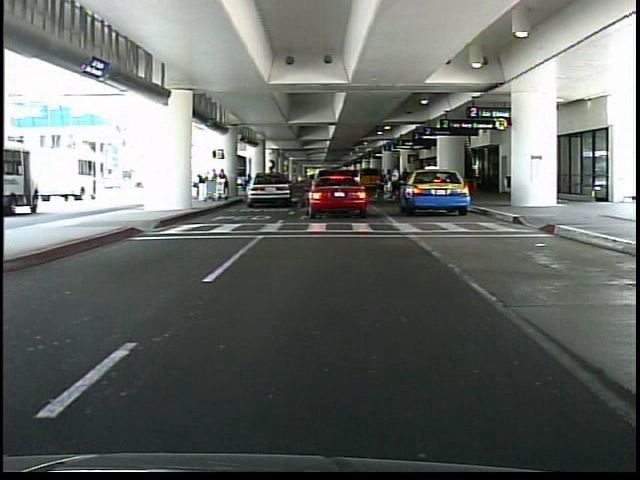person: (266, 165, 280, 204), (392, 167, 403, 201), (401, 166, 411, 203), (373, 173, 383, 202)
